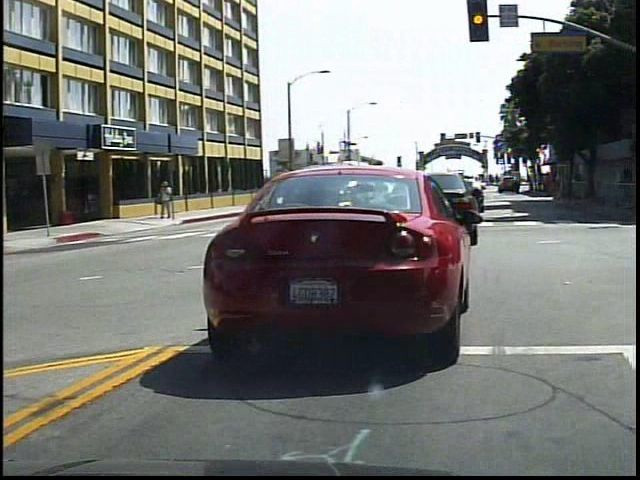person: (156, 177, 178, 225)
